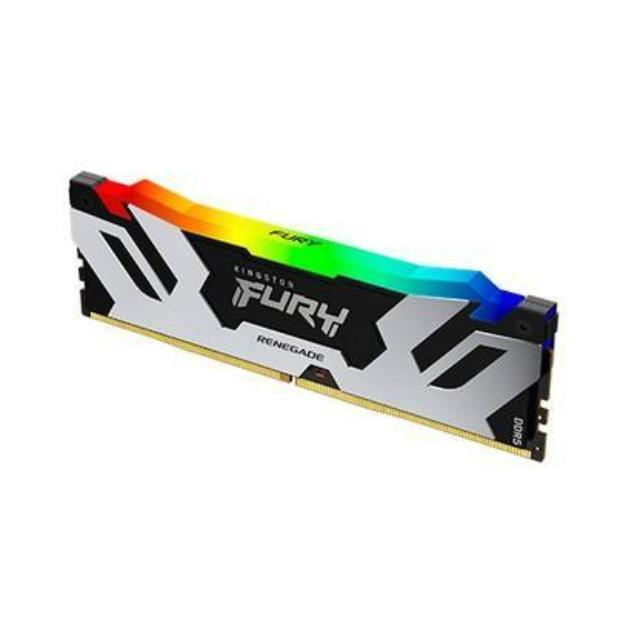RAM: (65, 165, 557, 467)
